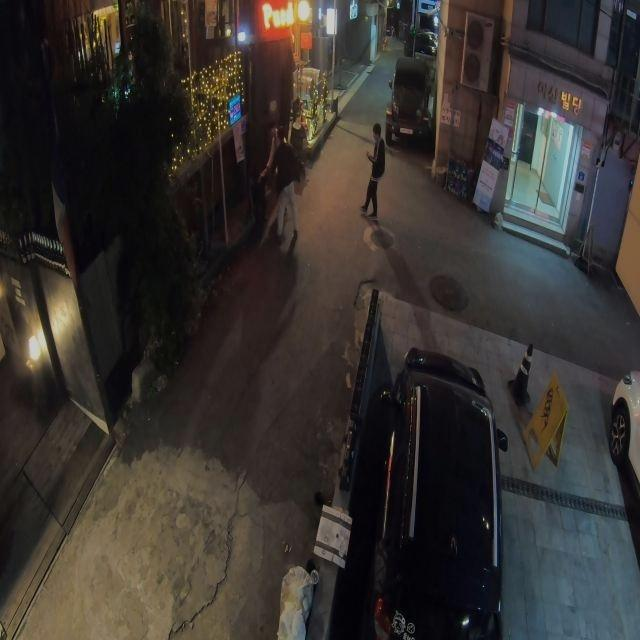non-fight: (363, 123, 387, 220)
